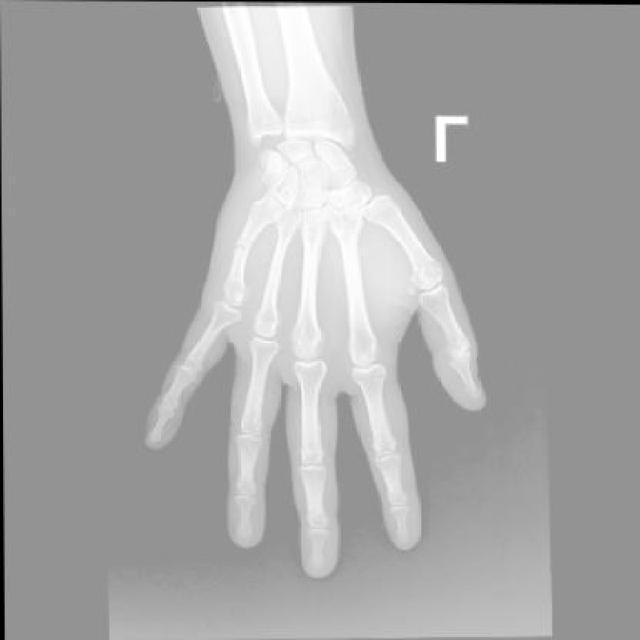Fracture: (231, 240, 250, 259)
